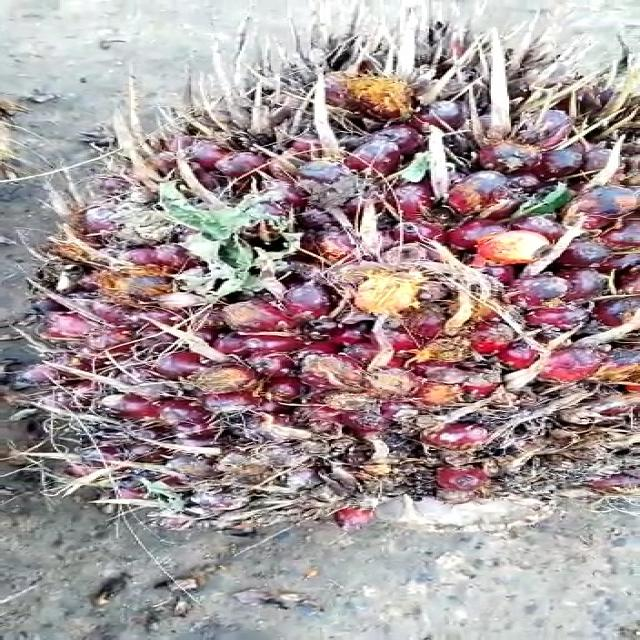palm oil: (0, 14, 640, 528)
